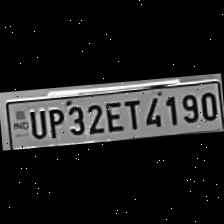0: (197, 88, 219, 123)
1: (160, 92, 180, 128)
2: (84, 100, 106, 135)
3: (63, 102, 86, 137)
4: (140, 93, 164, 130)
9: (178, 90, 200, 125)
E: (103, 98, 125, 134)
P: (44, 104, 65, 140)
T: (120, 96, 142, 132)
U: (25, 106, 46, 139)
